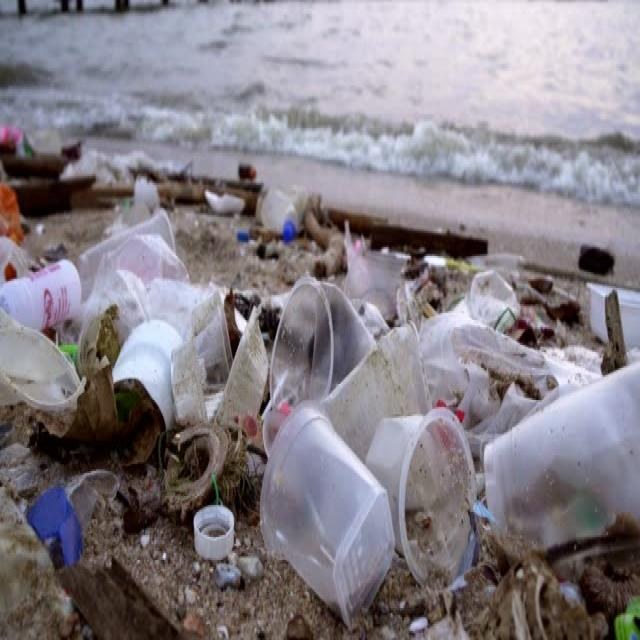plastic: (98, 247, 621, 544)
